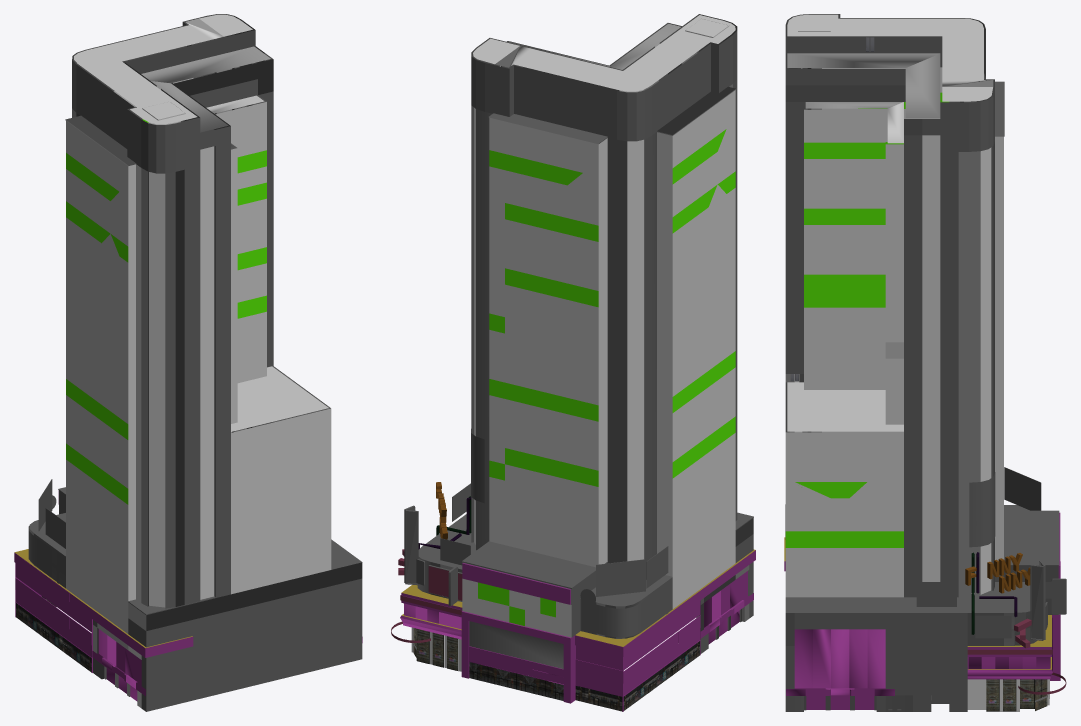
The model's file is mcp_building_04_LOD_1_lod.FBX.
3 renders of one model, left to right at view 1: azimuth 30°, elevation 25°; view 2: azimuth 150°, elevation 25°; view 3: azimuth 270°, elevation 25°, orthographic. The views are drawn at different scales.
Parts seen in each view (by area): view 1: mcp_building_04_windows_01, mcp_building_04_wall_tile_01, mcp_building_04_concrete, mcp_building_04_base_01, mcp_building_04_billboards, mcp_building_04_windows_02; view 2: mcp_building_04_windows_01, mcp_building_04_wall_tile_01, mcp_building_04_base_01, mcp_building_04_concrete, mcp_building_04_billboards, mcp_building_04_windows_02, mcp_building_04_metal_roof, mcp_building_04_plastic, mcp_building_04_screen_02; view 3: mcp_building_04_windows_01, mcp_building_04_wall_tile_01, mcp_building_04_concrete, mcp_building_04_base_01, mcp_building_04_billboards, mcp_building_04_wall_tile_02, mcp_building_04_windows_02, mcp_building_04_plastic, mcp_building_04_brick, mcp_building_04_candy_01, mcp_building_04_screen_03, mcp_building_04_helipad_concrete (+1 smaller).
Boxes of the visible parts, x1,y1,x2,y2 form: mcp_building_04_windows_01: [66, 68, 331, 633]; mcp_building_04_wall_tile_01: [30, 14, 362, 711]; mcp_building_04_concrete: [29, 14, 362, 615]; mcp_building_04_base_01: [14, 490, 362, 701]; mcp_building_04_billboards: [28, 479, 65, 583]; mcp_building_04_windows_02: [16, 596, 91, 672]; mcp_building_04_windows_01: [462, 52, 735, 637]; mcp_building_04_wall_tile_01: [417, 14, 753, 653]; mcp_building_04_base_01: [400, 550, 755, 711]; mcp_building_04_concrete: [413, 15, 753, 649]; mcp_building_04_billboards: [404, 429, 668, 668]; mcp_building_04_windows_02: [413, 628, 699, 711]; mcp_building_04_metal_roof: [401, 549, 755, 646]; mcp_building_04_plastic: [418, 482, 471, 549]; mcp_building_04_screen_02: [428, 566, 462, 600]; mcp_building_04_windows_01: [785, 67, 1003, 597]; mcp_building_04_wall_tile_01: [785, 14, 1058, 711]; mcp_building_04_concrete: [785, 14, 1059, 702]; mcp_building_04_base_01: [784, 512, 1060, 709]; mcp_building_04_billboards: [916, 467, 1047, 700]; mcp_building_04_wall_tile_02: [913, 613, 967, 711]; mcp_building_04_windows_02: [790, 37, 1047, 711]; mcp_building_04_plastic: [965, 552, 1030, 634]; mcp_building_04_brick: [967, 679, 1049, 711]; mcp_building_04_candy_01: [1051, 578, 1066, 614]; mcp_building_04_screen_03: [967, 649, 1052, 654]; mcp_building_04_helipad_concrete: [798, 17, 830, 31].
Bounding box in the file's own units: 3607 × 8540 × 3666.
